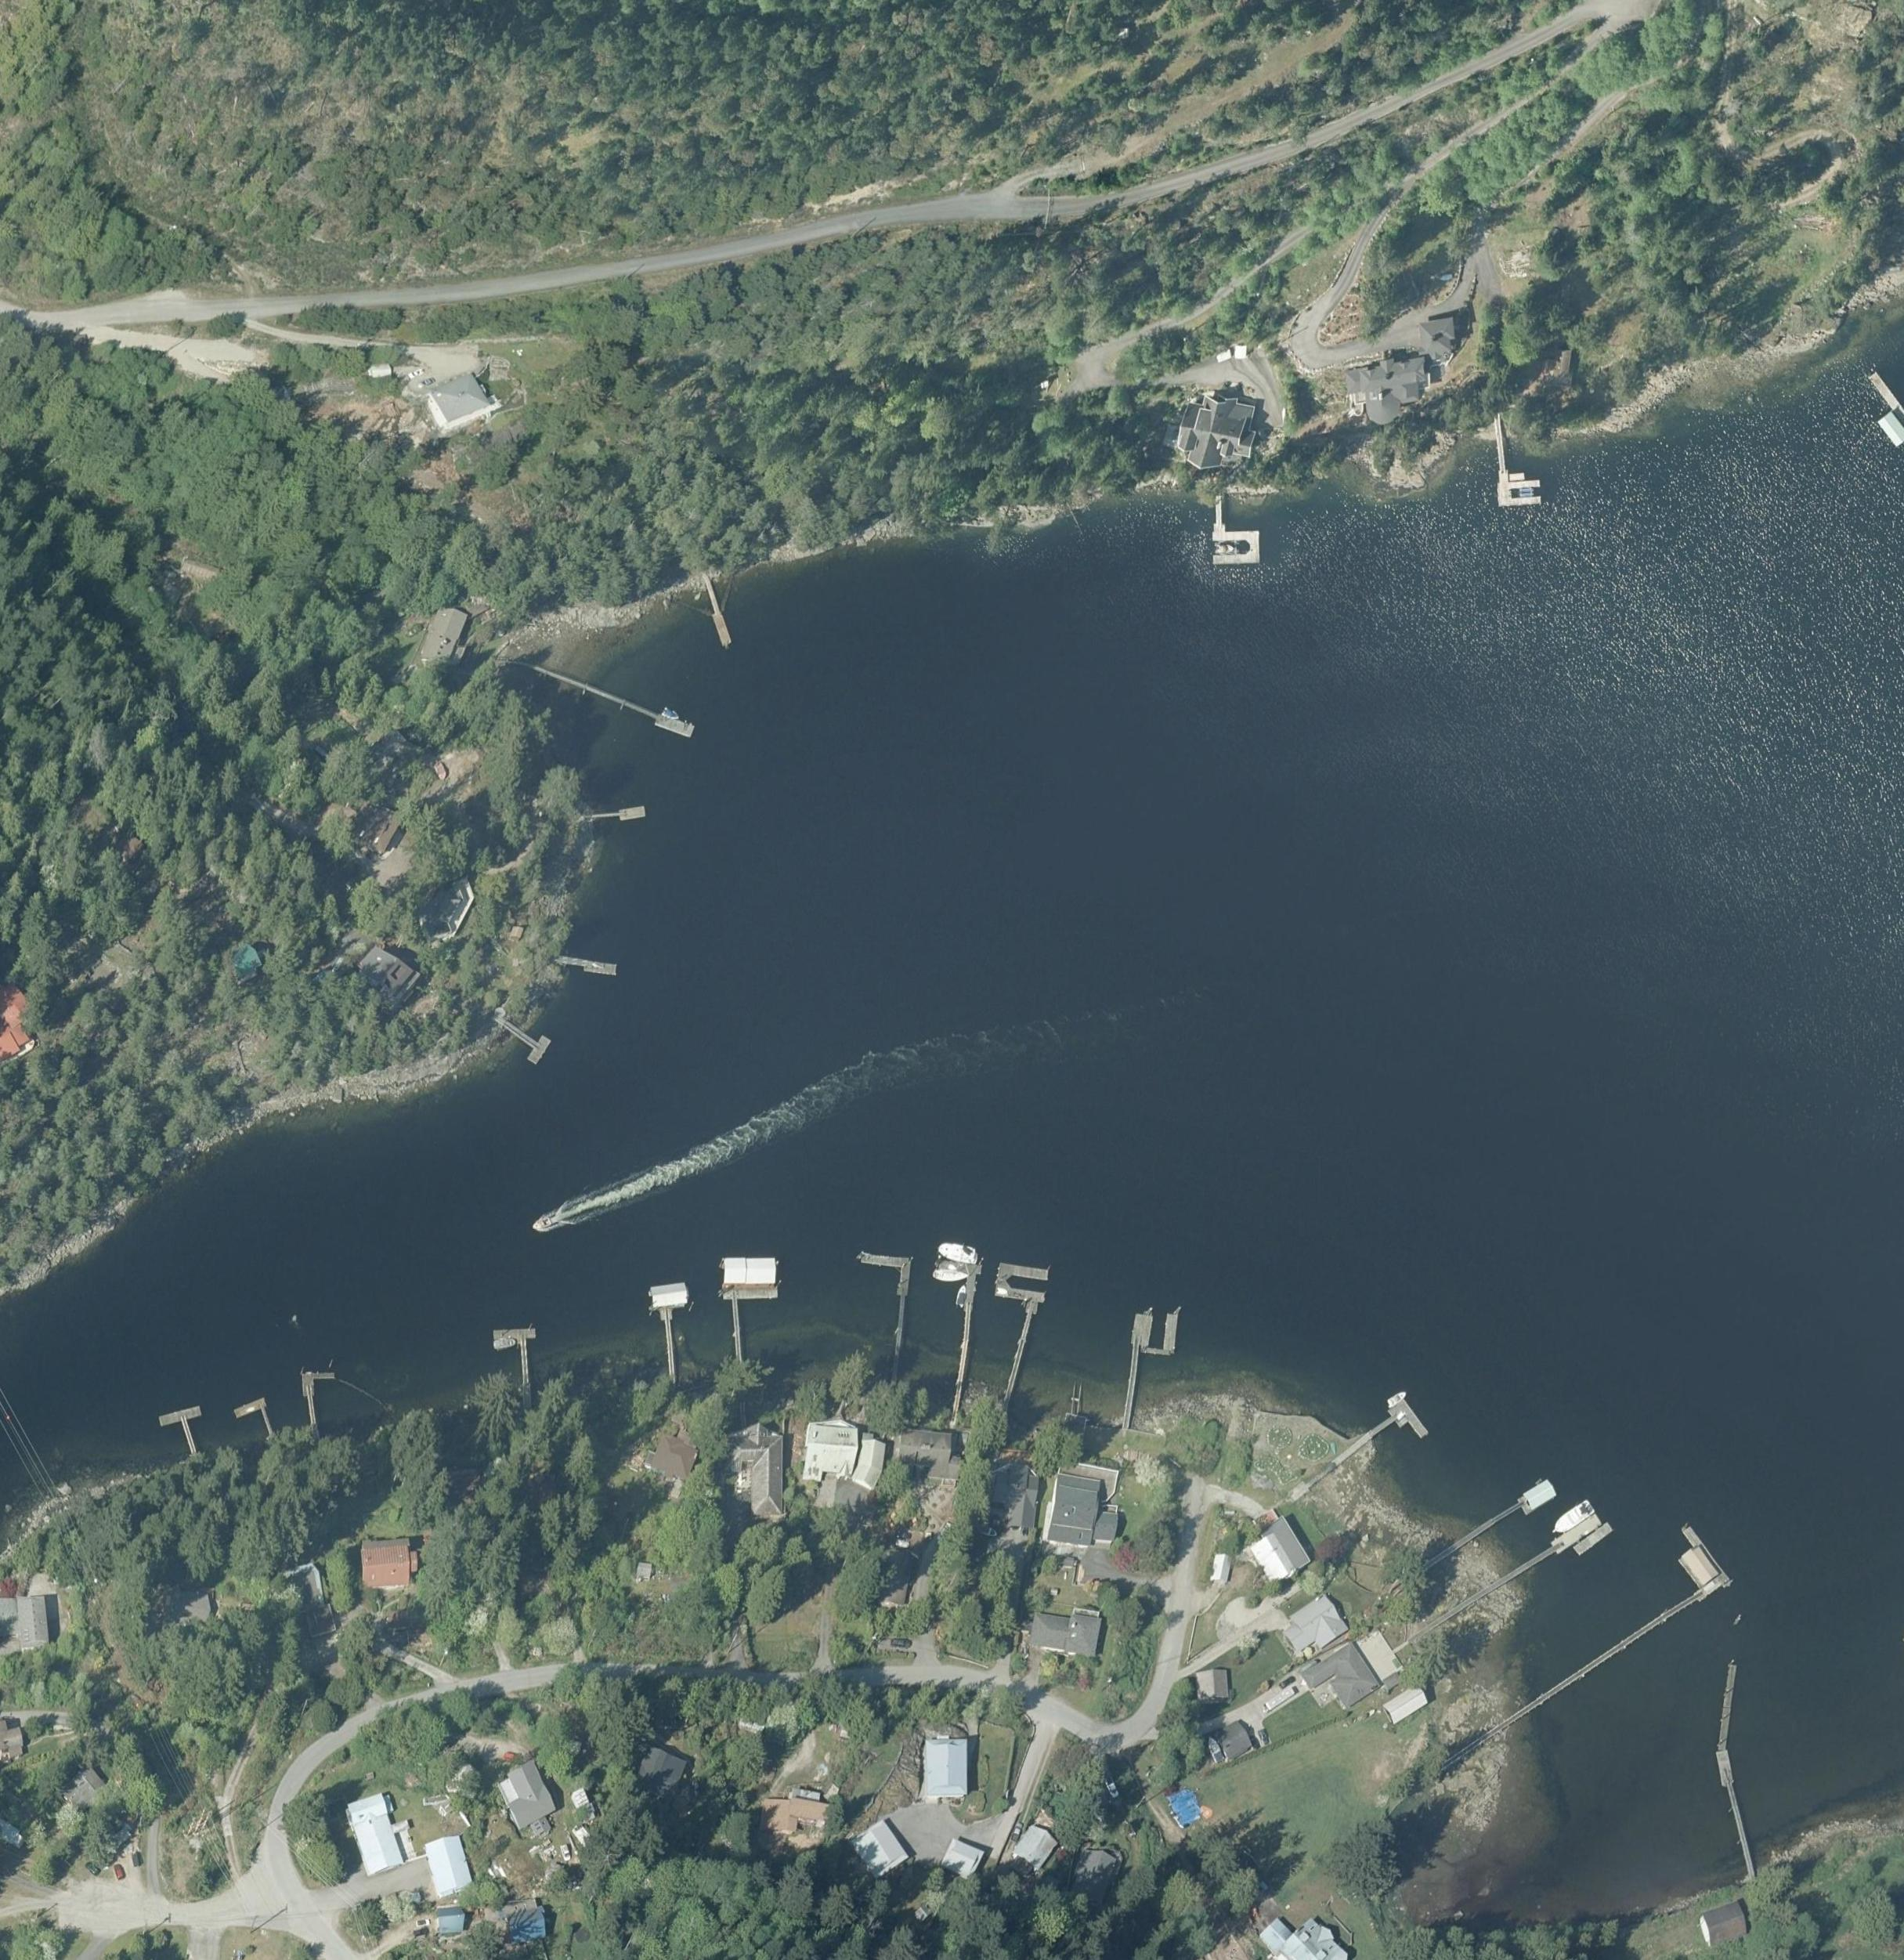harbor: (1463, 1524, 1731, 1732), (1424, 1512, 1603, 1634), (1298, 1398, 1428, 1508), (530, 660, 695, 740), (1424, 1480, 1557, 1575), (964, 1255, 1053, 1395), (913, 1256, 982, 1409), (847, 1253, 912, 1377), (1122, 1309, 1179, 1421), (721, 1256, 779, 1368), (1715, 1750, 1757, 1874), (1493, 420, 1542, 507), (651, 1284, 691, 1379), (1211, 495, 1260, 565), (490, 1011, 553, 1066), (493, 1328, 537, 1402), (157, 1407, 208, 1459), (702, 579, 733, 647), (234, 1398, 276, 1445), (1717, 1664, 1739, 1750), (303, 1372, 336, 1430), (556, 955, 618, 976), (590, 807, 646, 824)
ship: (1545, 1496, 1598, 1538), (934, 1239, 980, 1265), (929, 1265, 971, 1284), (1202, 1736, 1227, 1766), (530, 1214, 555, 1234), (1384, 1389, 1409, 1409), (973, 1522, 999, 1540), (954, 1284, 969, 1309), (492, 1337, 516, 1353), (1213, 544, 1235, 556)
